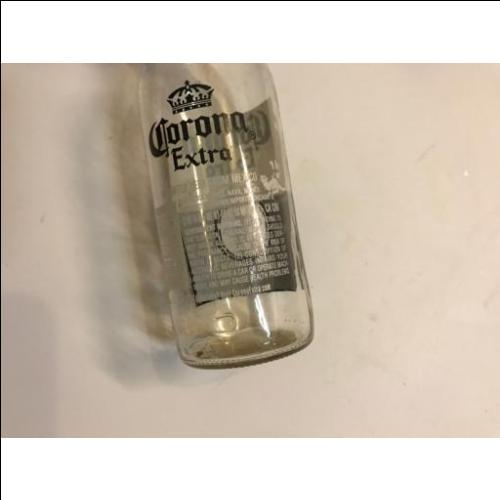glass: (138, 62, 313, 369)
